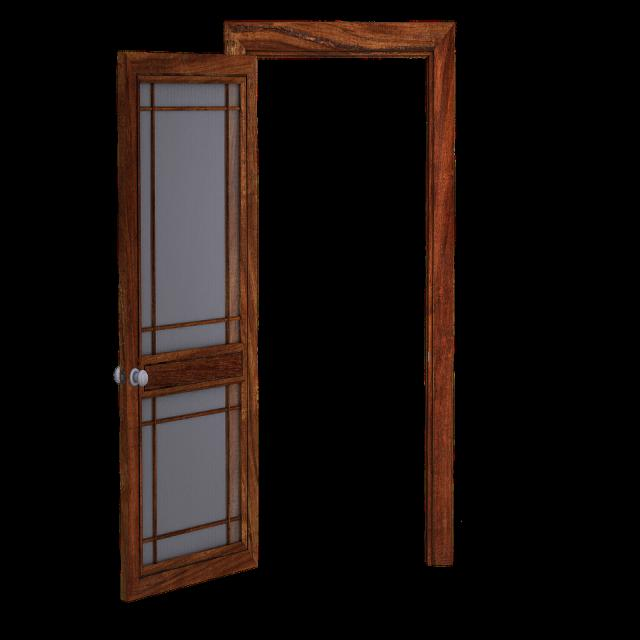open: (111, 12, 468, 616)
